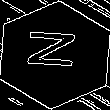N_E: (25, 33, 85, 77)
